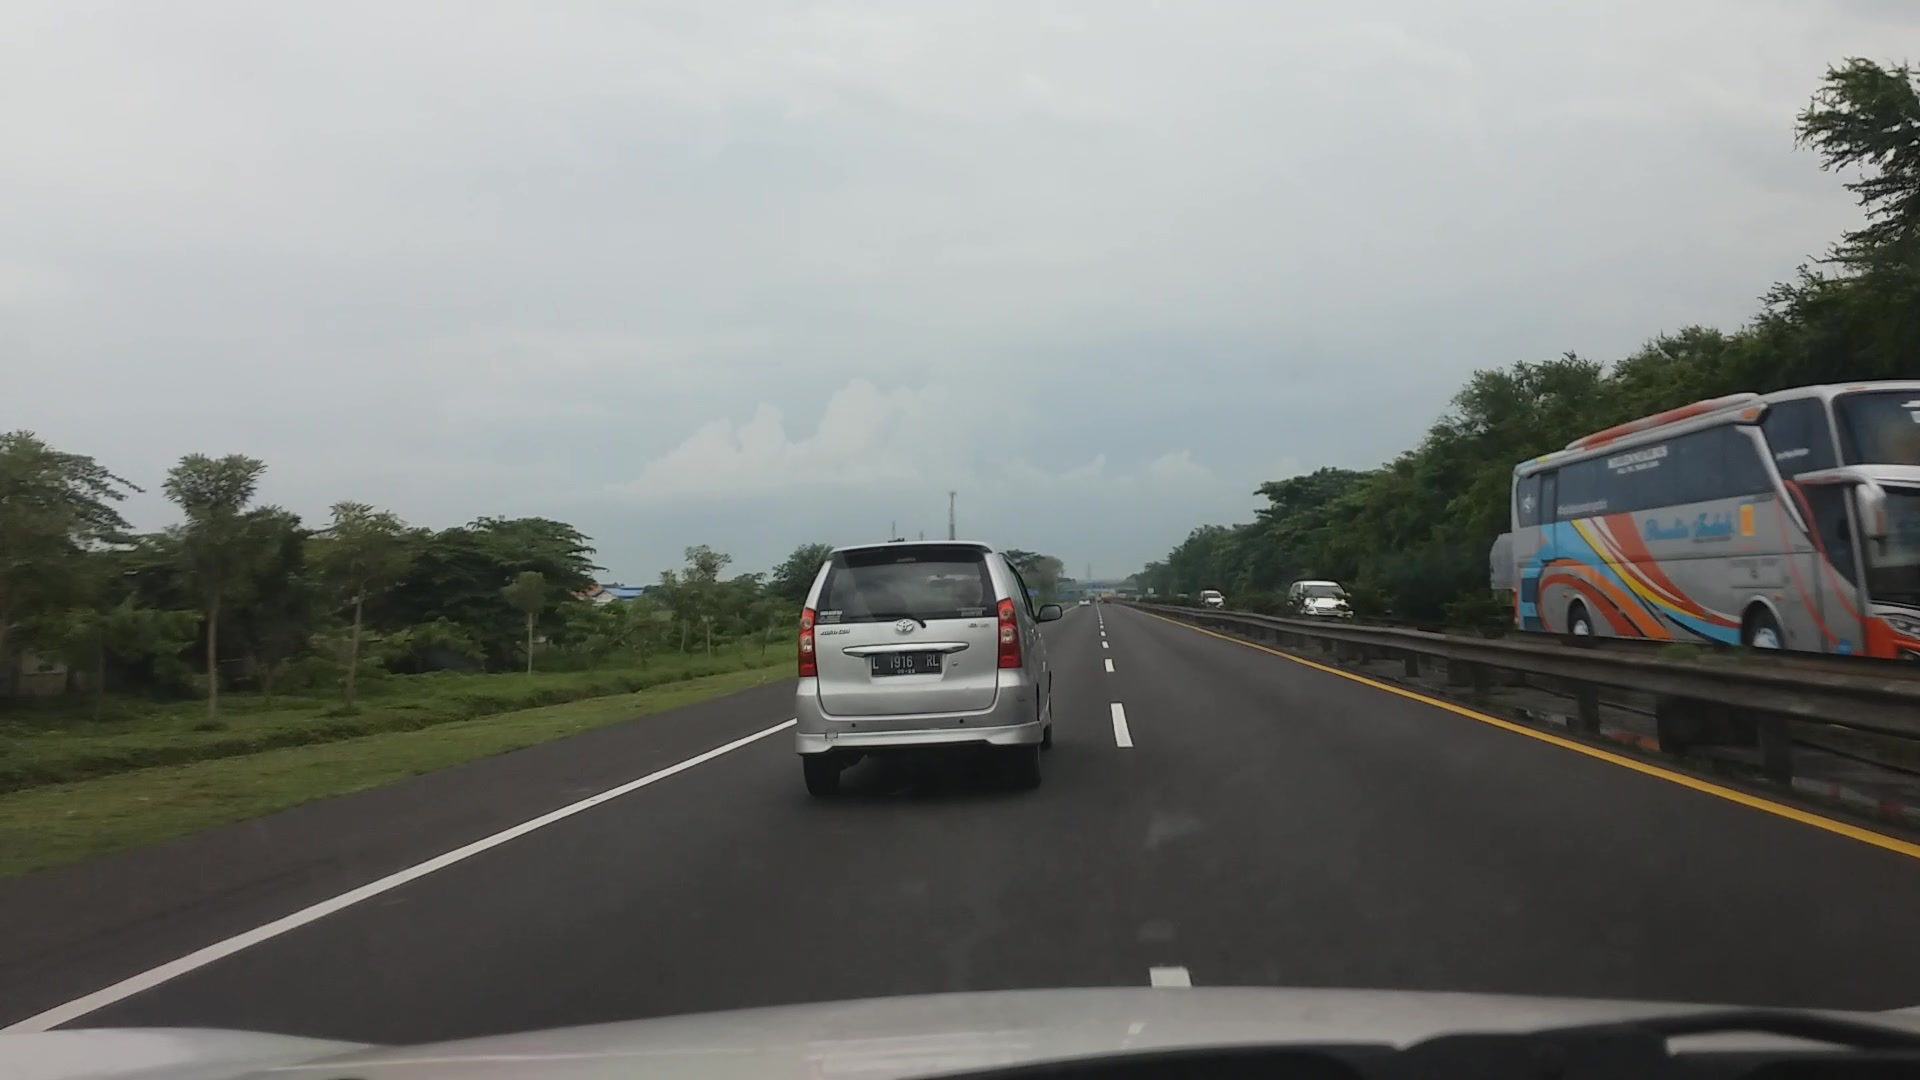plate_positive: (872, 651, 942, 676)
